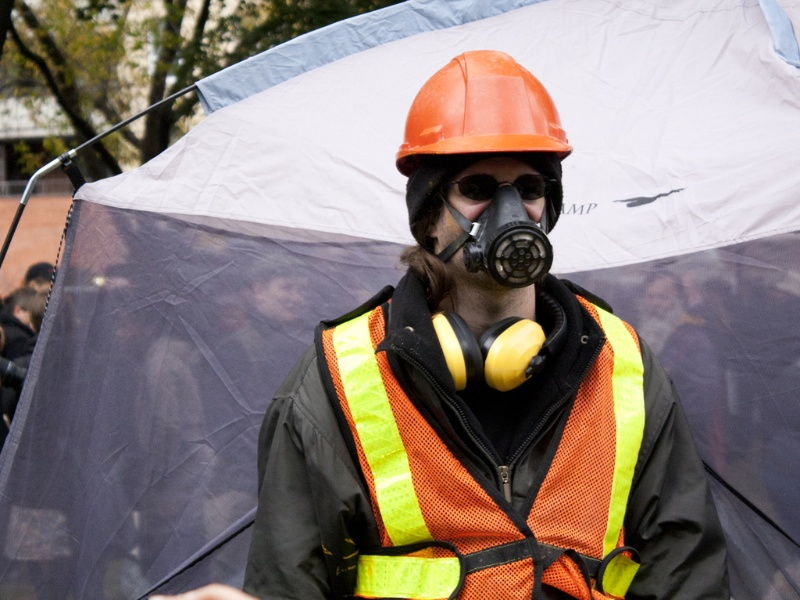Baret: (396, 49, 571, 161)
